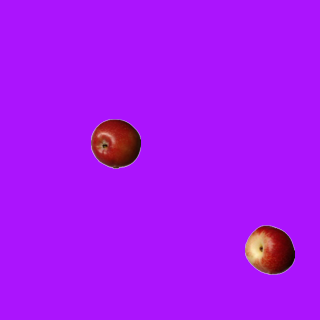Apple Braeburn: (90, 118, 140, 168)
Nectarine: (244, 224, 294, 274)
